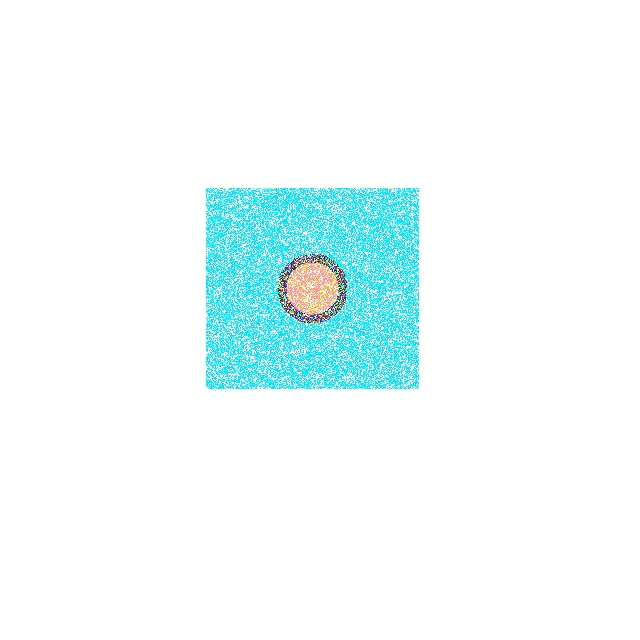Videoprojecteur: (205, 187, 419, 389)
